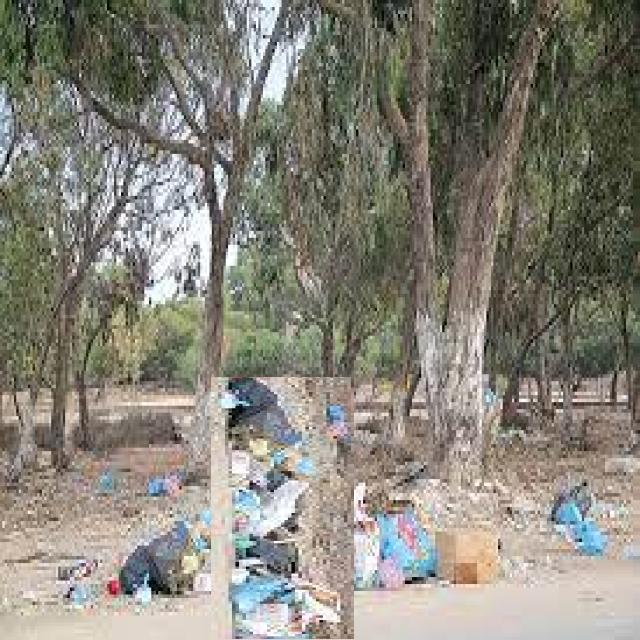garbage: (165, 422, 399, 640)
